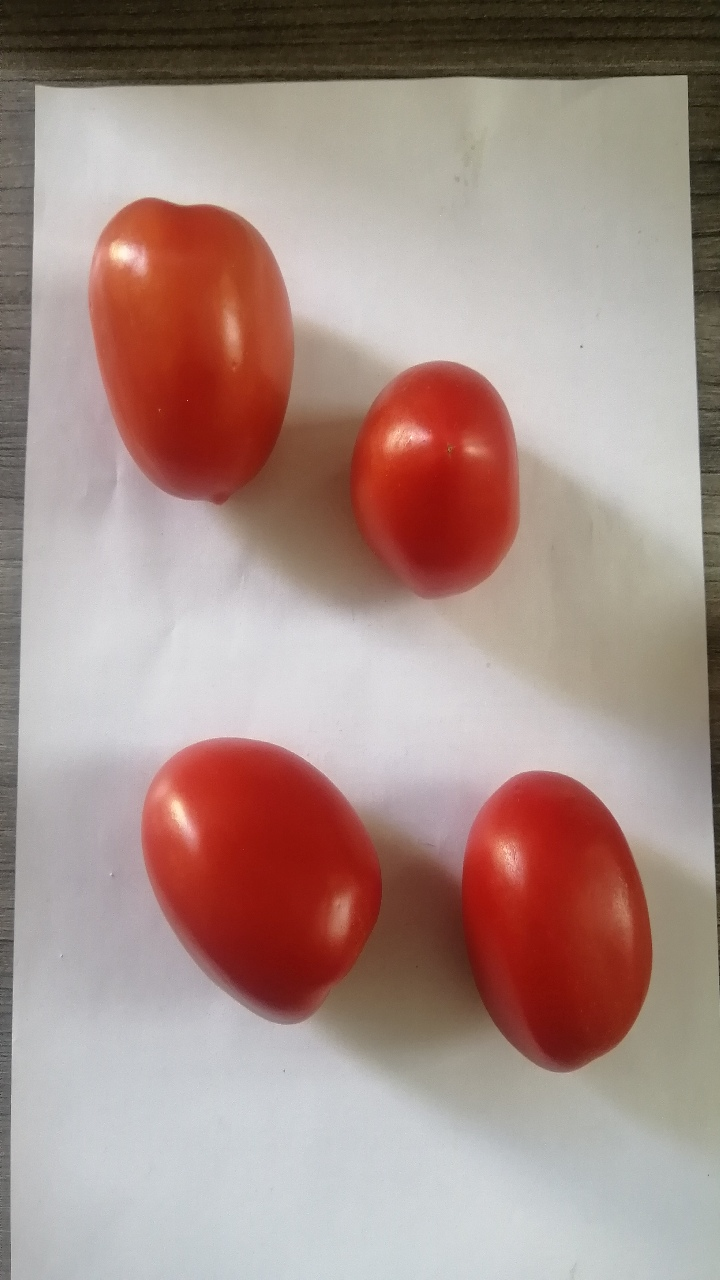tomateRojo: (114, 711, 417, 1052), (61, 179, 314, 532), (440, 745, 677, 1095), (334, 320, 544, 625)
